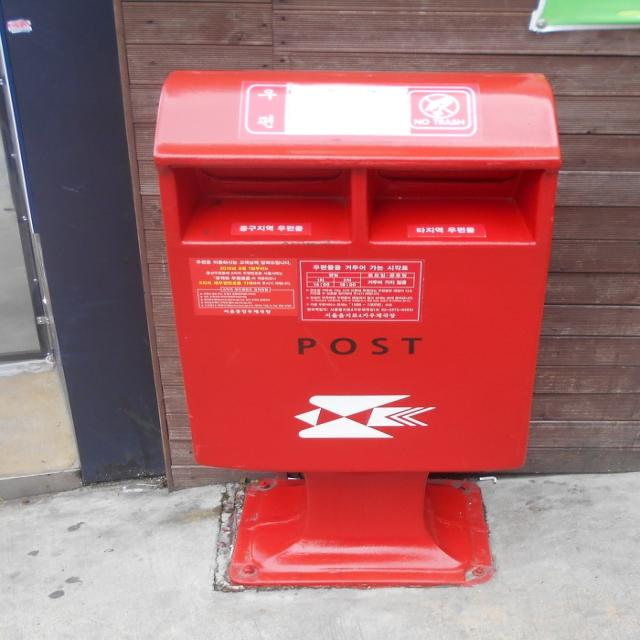Post Box: (147, 67, 568, 593)
